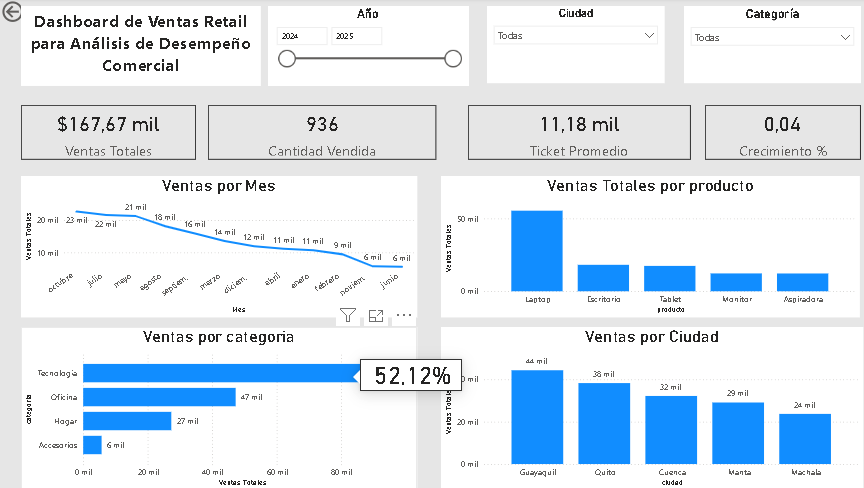

Layout of this report page (visuals, bound fields, positions):
{"tool":"powerbi","page":{"name":"D1","canvas":[1280,720],"ordinal":0},"visuals":[{"type":"lineChart","title":"Ventas por Mes","fields":{"Category":["Calendario.Mes"],"Y":["Calendario.Ventas Totales"]},"box":[32.2,276.6,1229.3,190.2],"z":0},{"type":"actionButton","box":[0,0,100,40],"z":1000},{"type":"barChart","title":"Ventas por categoria","fields":{"Category":["ventas.categoria"],"Y":["Calendario.Ventas Totales"]},"box":[32.2,481.5,544.4,238.5],"z":2000},{"type":"columnChart","title":"Ventas por Ciudad","fields":{"Category":["ventas.ciudad"],"Y":["Calendario.Ventas Totales"]},"box":[646.8,481.5,617.6,238.5],"z":3000},{"type":"card","title":"Ventas Totales","fields":{"Values":["Calendario.Ventas Totales"]},"box":[77.6,156.6,256.1,80.5],"z":4000},{"type":"card","title":"Unidades Vendidas","fields":{"Values":["Calendario.Cantidad Vendida"]},"box":[480,156.6,333.7,80.5],"z":5000},{"type":"card","title":"Tickets","fields":{"Values":["Calendario.Ticket Promedio"]},"box":[935.1,156.6,326.3,80.5],"z":6000},{"type":"slicer","title":"Año","fields":{"Values":["Calendario.Año"]},"box":[393.7,11.7,292.7,117.1],"z":7000},{"type":"slicer","title":"Ciudad","fields":{"Values":["ventas.ciudad"]},"box":[714.1,11.7,260.5,112.7],"z":8000},{"type":"slicer","title":"Categoría","fields":{"Values":["ventas.categoria"]},"box":[1002.4,11.7,259,112.7],"z":9000},{"type":"textbox","box":[32.2,11.7,351.2,117.1],"z":9001}]}

Visuals, with their boxes in screenshot pixels (x1, y1, x2, y2), scaled from the page's 1280x720 canvas onto the 864x488 screenshot:
"Ventas por Mes" lineChart: rect(22, 187, 852, 316)
actionButton: rect(0, 0, 68, 27)
"Ventas por categoria" barChart: rect(22, 326, 389, 487)
"Ventas por Ciudad" columnChart: rect(437, 326, 853, 487)
"Ventas Totales" card: rect(52, 106, 225, 161)
"Unidades Vendidas" card: rect(324, 106, 549, 161)
"Tickets" card: rect(631, 106, 851, 161)
"Año" slicer: rect(266, 8, 463, 87)
"Ciudad" slicer: rect(482, 8, 658, 84)
"Categoría" slicer: rect(677, 8, 851, 84)
textbox: rect(22, 8, 259, 87)
